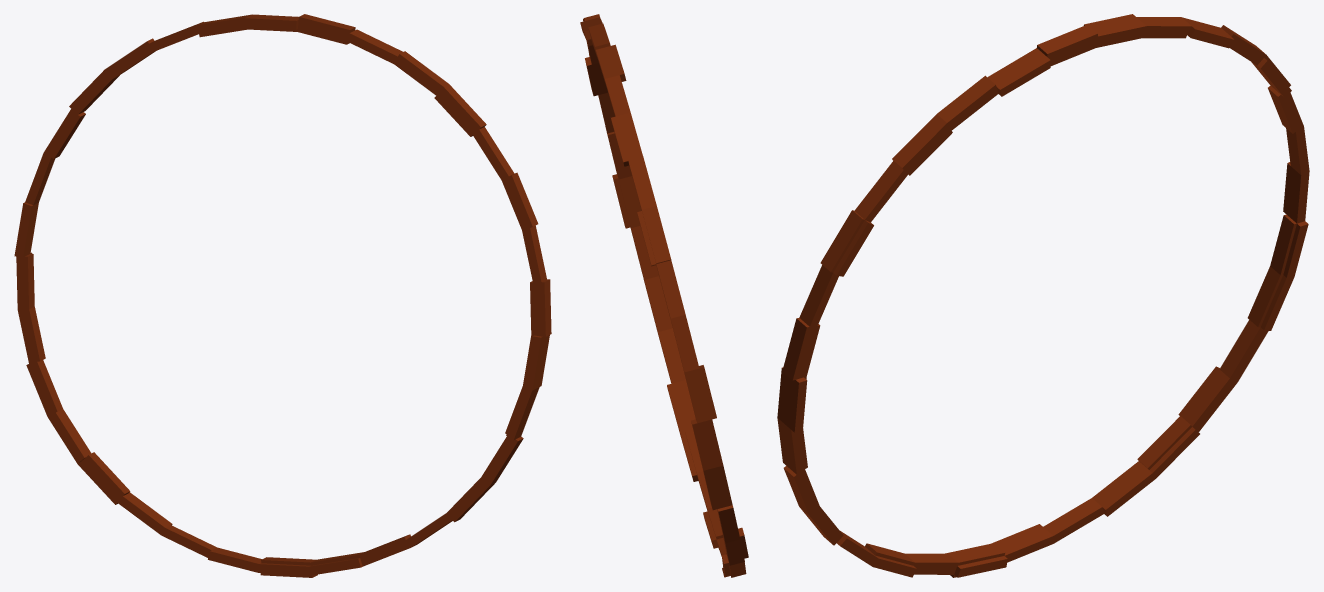
Rendered from ring_big_0.obj.
3 renders of one model, left to right at view 1: azimuth 30°, elevation 25°; view 2: azimuth 150°, elevation 25°; view 3: azimuth 270°, elevation 25°, orthographic. The views are drawn at different scales.
Bounding box in the file's own units: 1.23 × 1.85 × 1.53.
